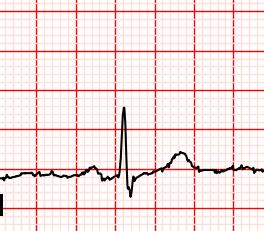ST Depression: (103, 167, 145, 201)
